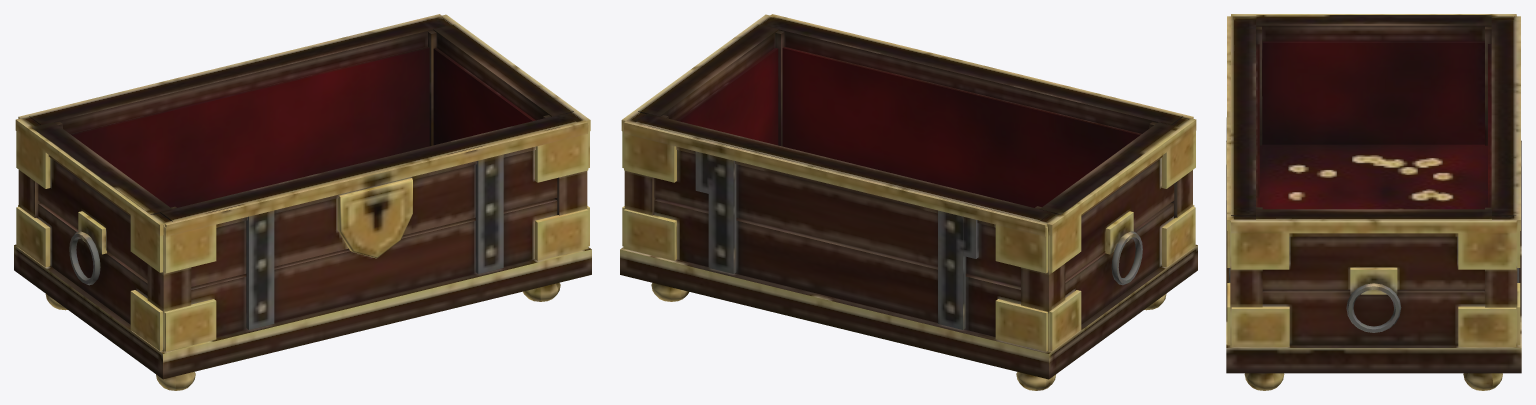
The model's file is chest_ornate.glb.
The picture shows the model from 3 angles, left to right: view 1: azimuth 30°, elevation 25°; view 2: azimuth 150°, elevation 25°; view 3: azimuth 270°, elevation 25°; orthographic projection.
Parts seen in each view (by area): view 1: chest_ornate; view 2: chest_ornate; view 3: chest_ornate.
Boxes of the visible parts, x1,y1,x2,y2 form: chest_ornate: (14, 14, 591, 390); chest_ornate: (620, 14, 1197, 390); chest_ornate: (1226, 14, 1521, 390).
Bounding box in the file's own units: 1.27 × 0.5011 × 0.7422.
1 material, 1 textured.
